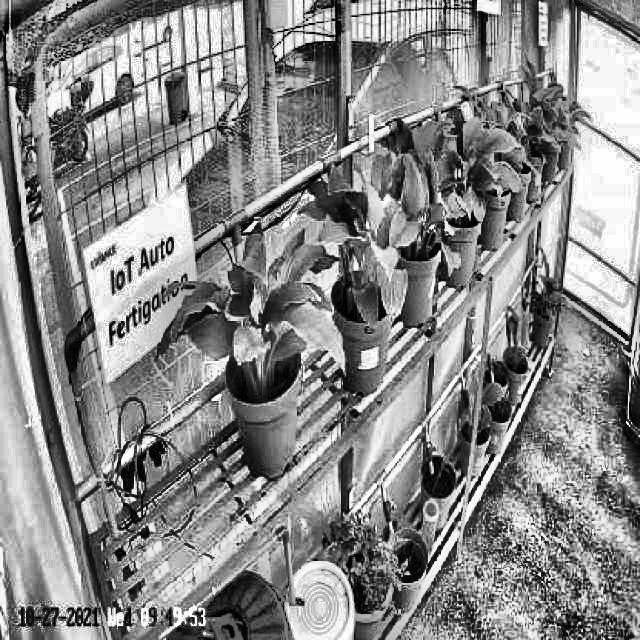plants: (156, 227, 350, 395), (302, 174, 409, 324), (408, 108, 522, 224), (374, 138, 460, 278)
